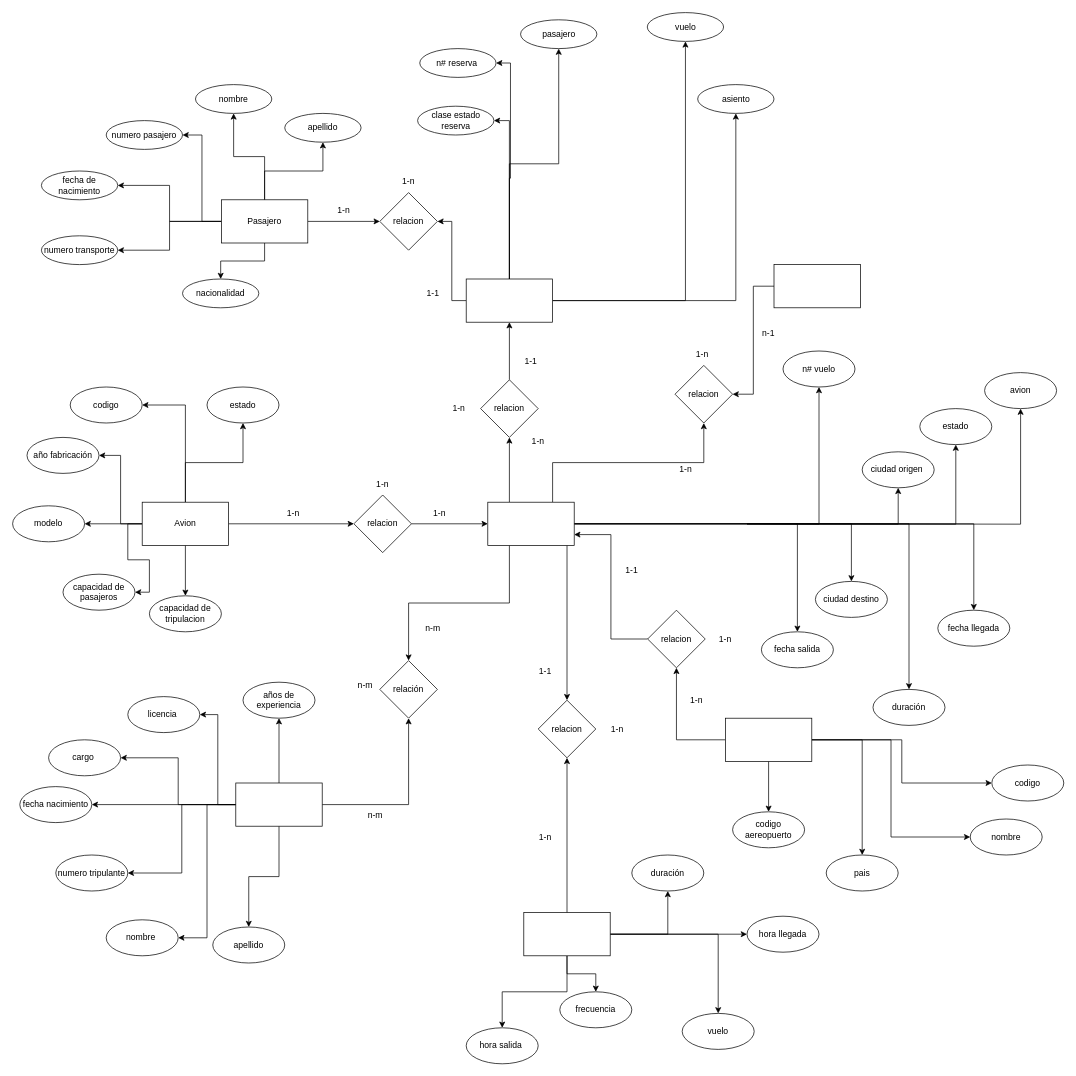
This 1076x1076 diagram has some shape labels left out. The shapes that lost their labels are listed below. From the top down, each one's centre as x and y in pixels, then its label:
(509,300): Reserva pasajero
(816,286): Cuidad origen/destino
(530,523): Vuelos
(768,739): Ciudad
(278,804): tripulacion
(566,934): Horario de vuelo
